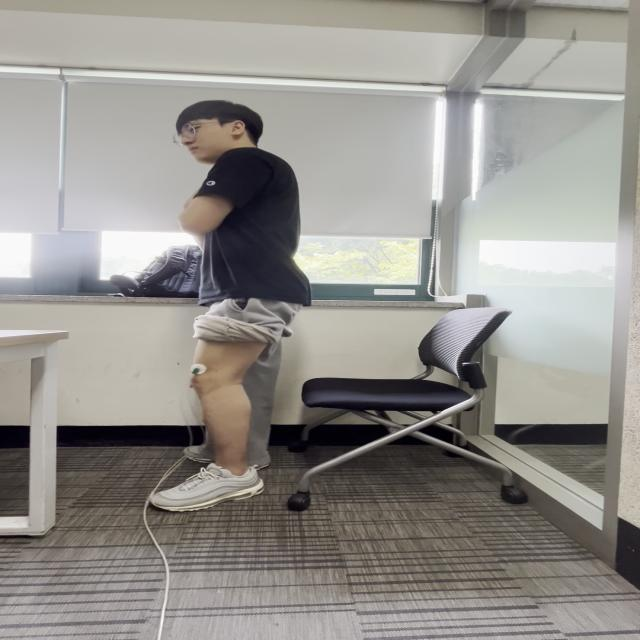stand: (193, 160, 310, 395), (210, 310, 282, 506)
